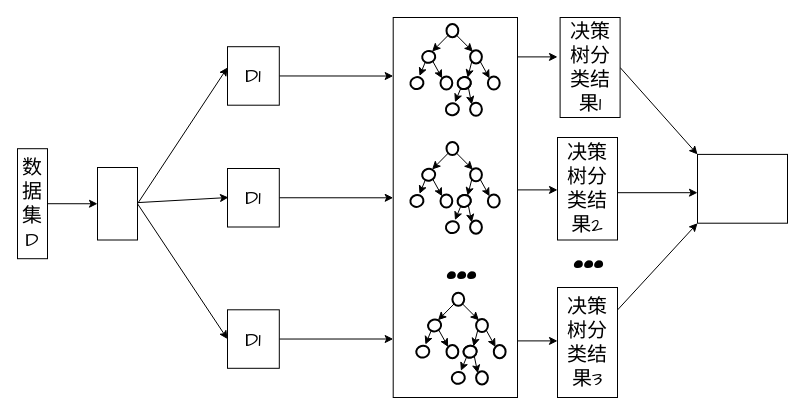
Some shapes in this 805 by 415 pixel diagram are drawn without their labels. The centre of each missing label's shape, as x and y in pixels:
"投票决定最优分类" goes at (742,188).
"随机化" goes at (117,203).
